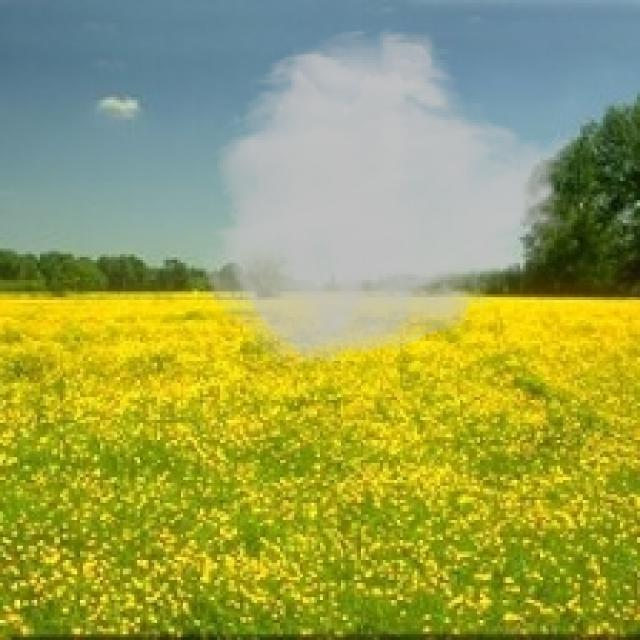Smoke: (197, 26, 583, 368)
